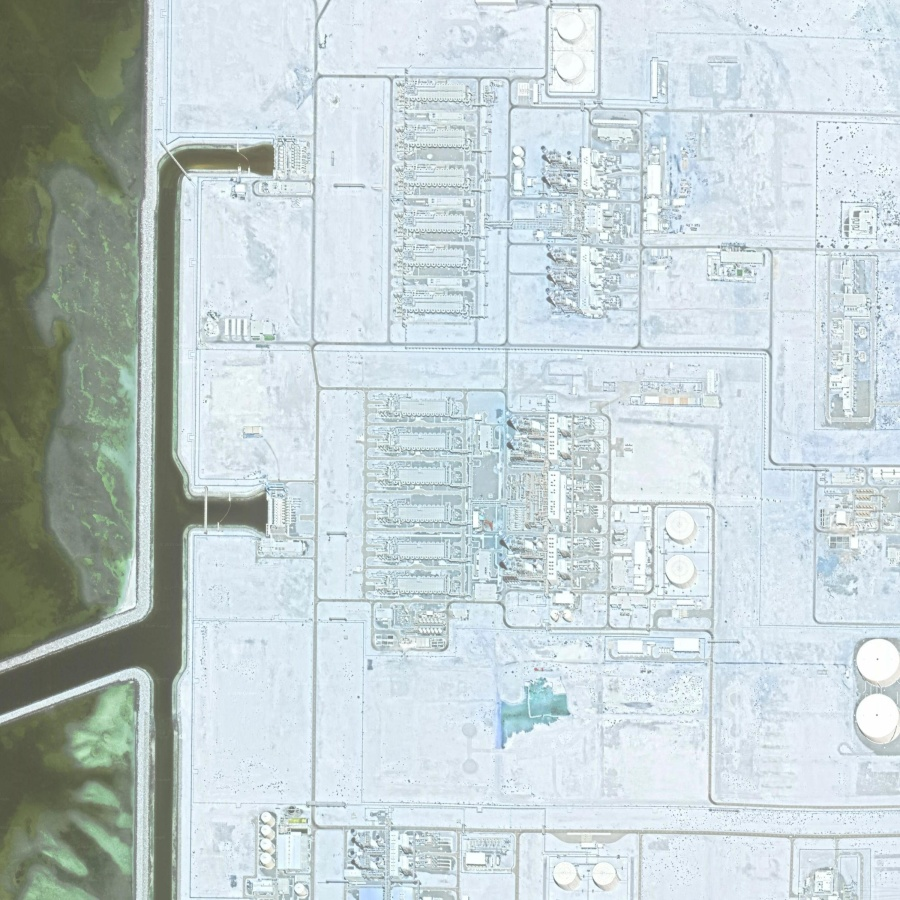PowerPlant: (349, 384, 711, 664)
